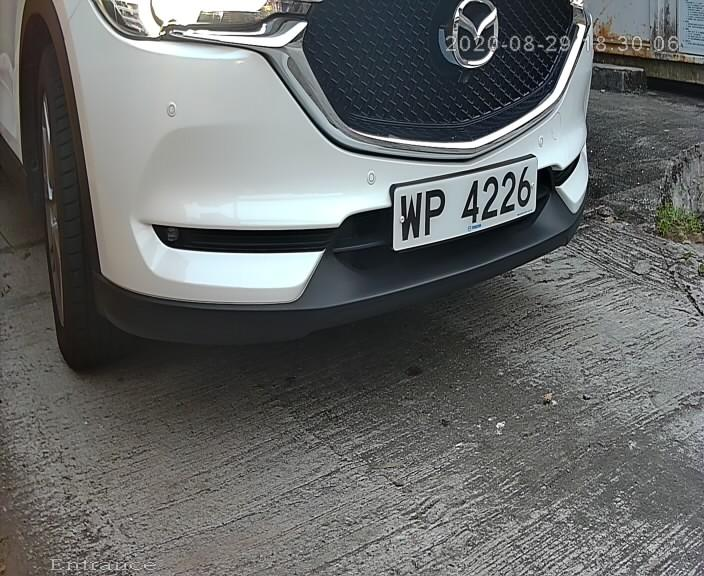Car: (13, 3, 657, 399)
License Plate: (384, 145, 547, 258)
